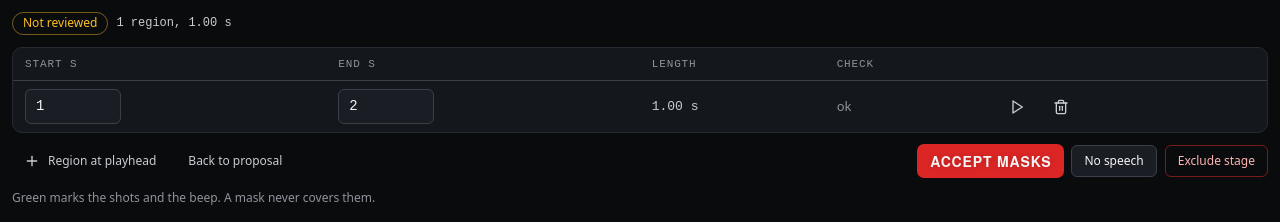
Test case: SpeechPanel › will not accept a region over a shot
Replace the text in the number field named "Region 1 end" with "5" at (386, 107), box x1=338 y1=89 x2=434 y2=124
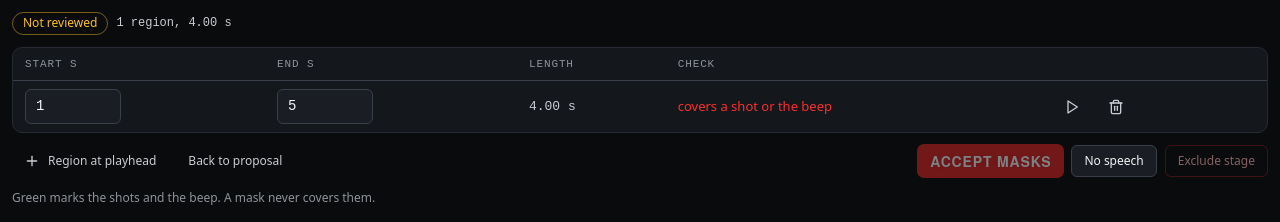
Check: the text "covers a shot or the beep" is shown, box x1=666 y1=81 x2=1040 y2=132
Check: the button "Accept masks" is disabled, box x1=918 y1=145 x2=1063 y2=177
